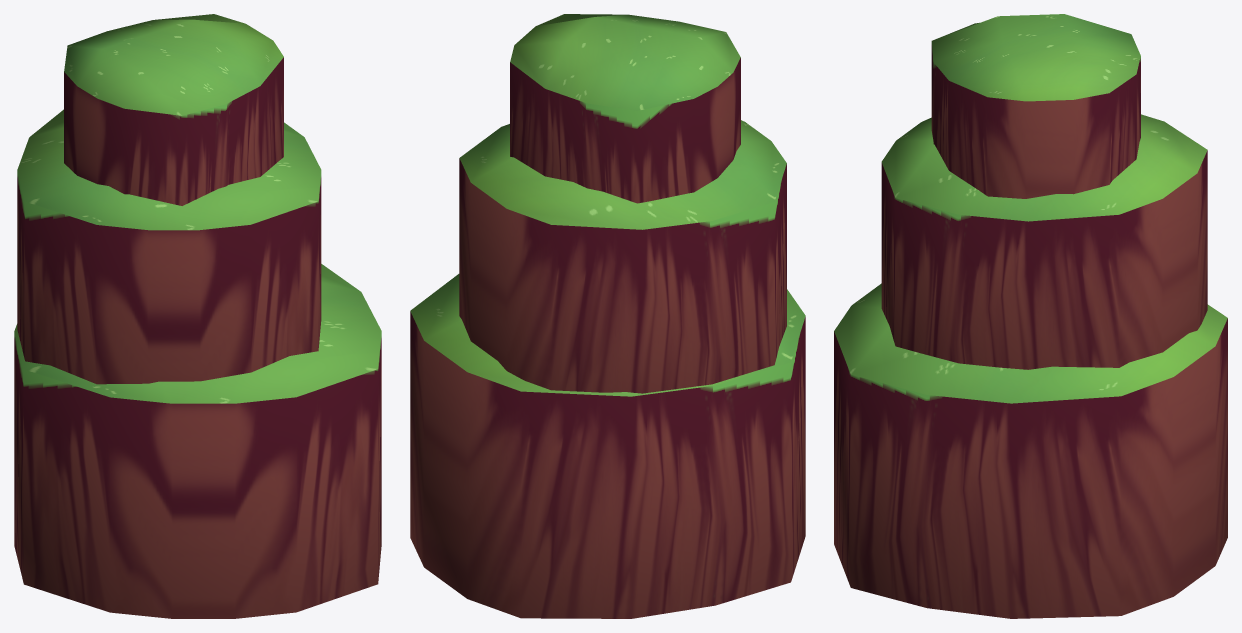
Rendered from island_10.gltf.
The picture shows the model from 3 angles, left to right: view 1: azimuth 30°, elevation 25°; view 2: azimuth 150°, elevation 25°; view 3: azimuth 270°, elevation 25°; orthographic projection. The views are drawn at different scales.
Parts seen in each view (by area): view 1: Island10Mesh -col; view 2: Island10Mesh -col; view 3: Island10Mesh -col.
Part boxes in pixels (x1,y1,x2,y2): Island10Mesh -col: (14,14,381,618); Island10Mesh -col: (410,14,805,618); Island10Mesh -col: (834,14,1227,618).
Bounding box in the file's own units: 2 × 2.89 × 2.08.
Materials: 1 (1 with a texture image).
